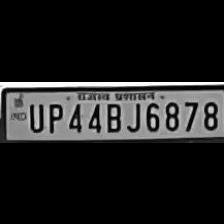4: (64, 99, 84, 133), (84, 99, 102, 133)
6: (142, 98, 160, 132)
7: (180, 96, 198, 132)
8: (198, 97, 220, 131), (161, 98, 179, 132)
B: (102, 97, 122, 132)
J: (123, 97, 141, 132)
P: (43, 99, 62, 133)
U: (26, 100, 44, 132)
